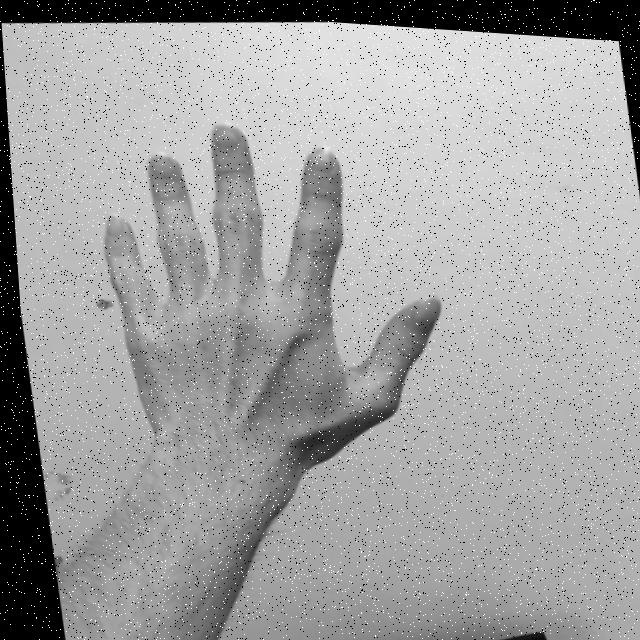hand: (81, 96, 458, 467)
